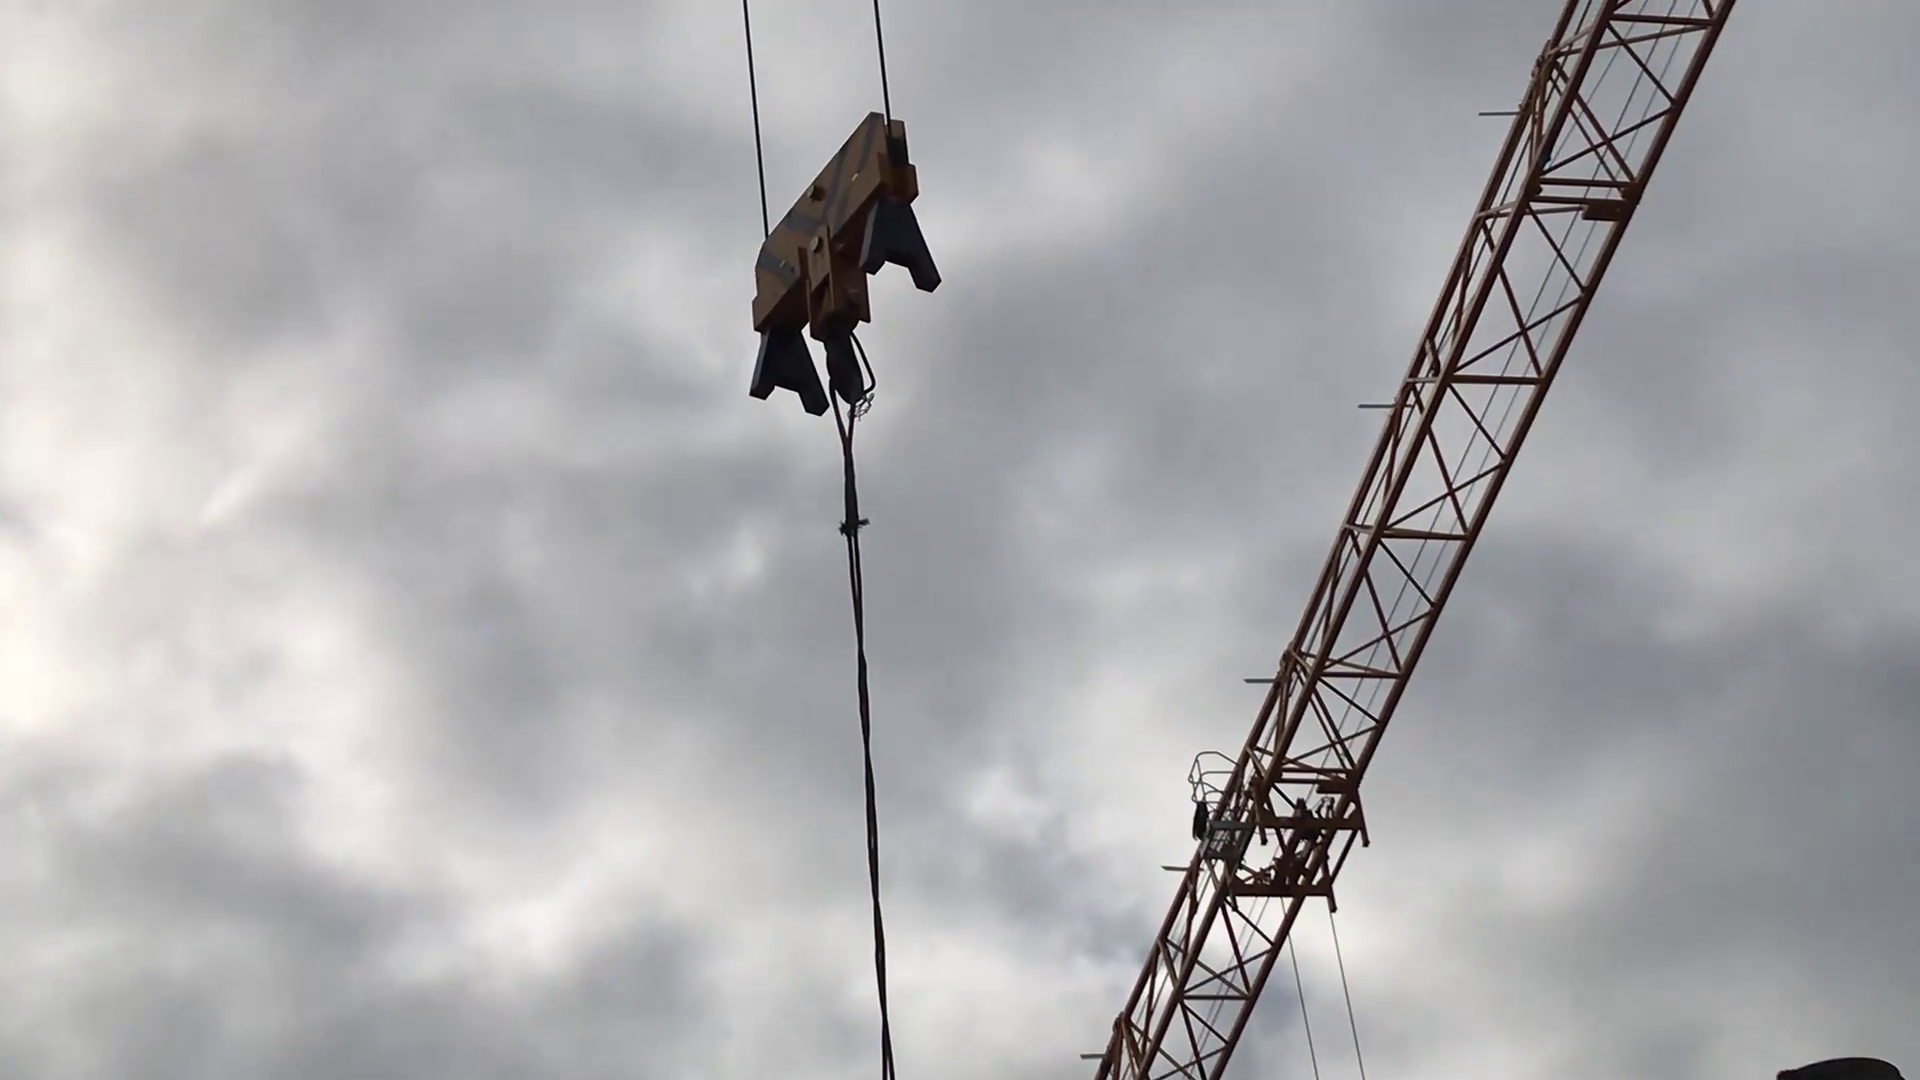hook: (740, 104, 951, 425)
